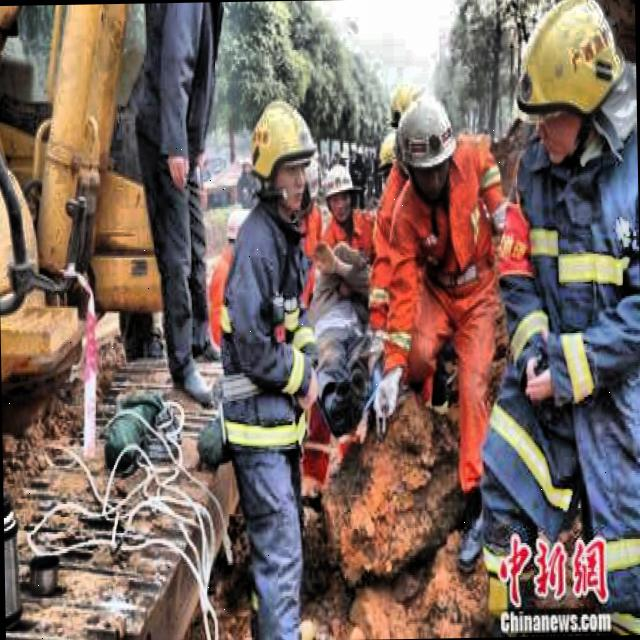helmet: (509, 0, 630, 173), (246, 94, 322, 216), (392, 89, 458, 199), (318, 157, 359, 222)
